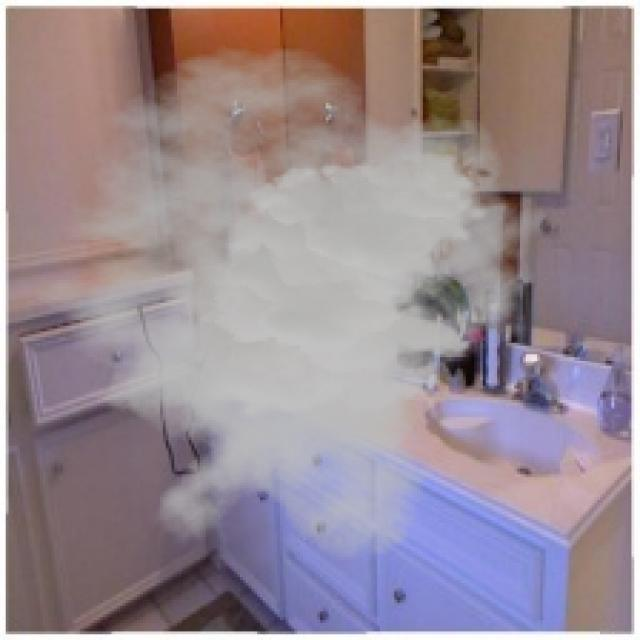Smoke: (9, 46, 548, 563)
